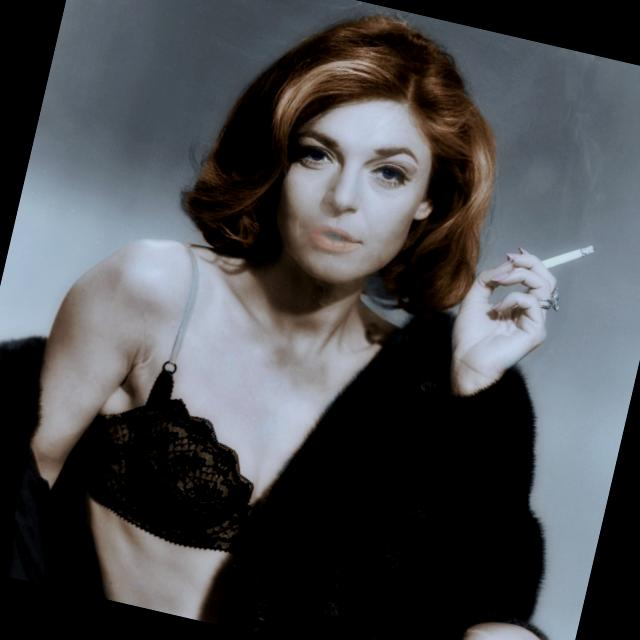smoke: (496, 216, 610, 296)
